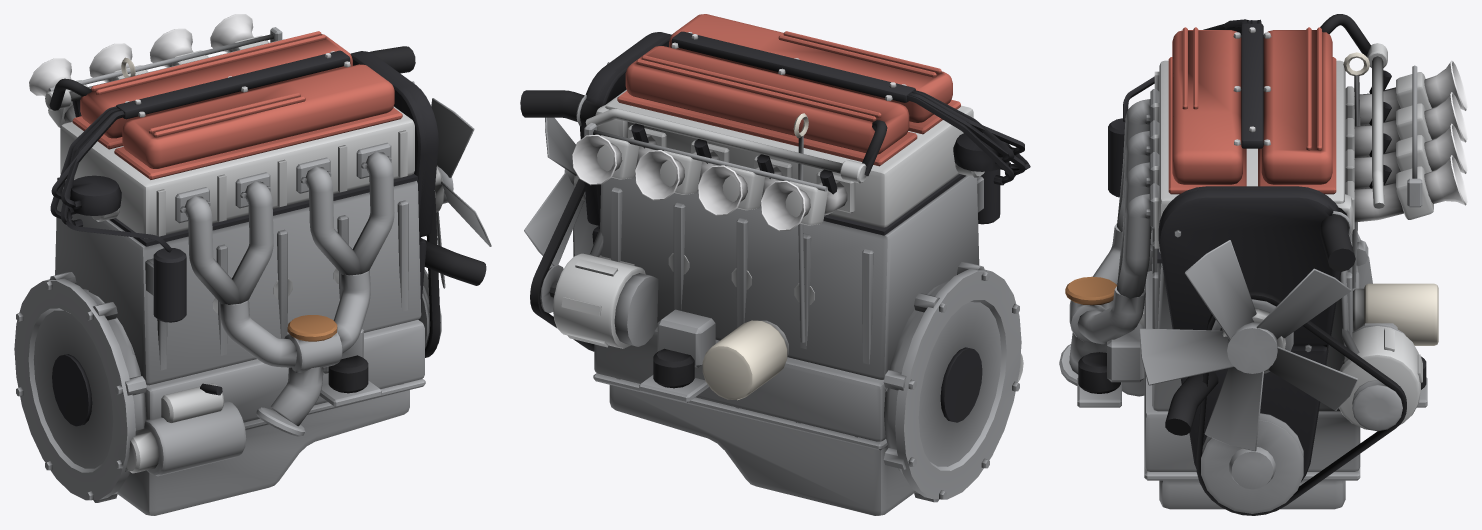
The model's file is eng_i4tc.glb.
3 views of the same model, side by side, from view 1: azimuth 30°, elevation 25°; view 2: azimuth 150°, elevation 25°; view 3: azimuth 270°, elevation 25° (orthographic). The views are drawn at different scales.
Visible parts, largest first — view 1: PART; view 2: PART; view 3: PART.
Part boxes in pixels (box(x1,y1,x2,y2)): PART: box(14, 14, 491, 515); PART: box(520, 14, 1030, 515); PART: box(1059, 14, 1467, 515).
Bounding box in the file's own units: 0.6881 × 0.603 × 0.5477.
